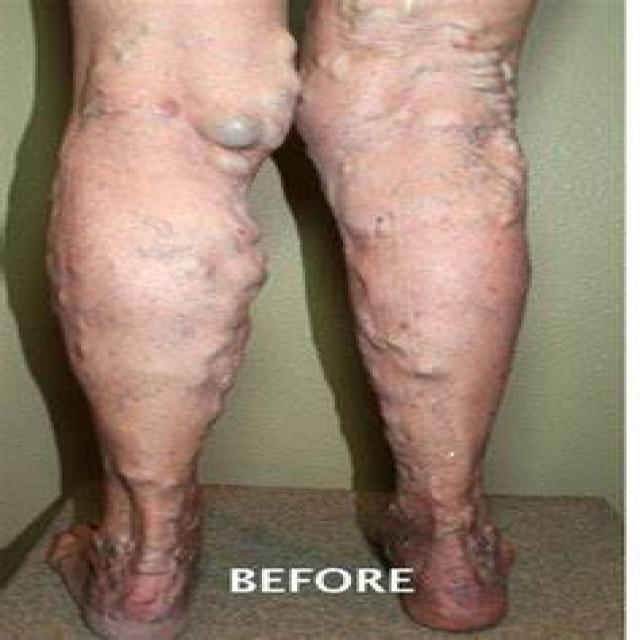Varicose: (138, 36, 558, 626)
